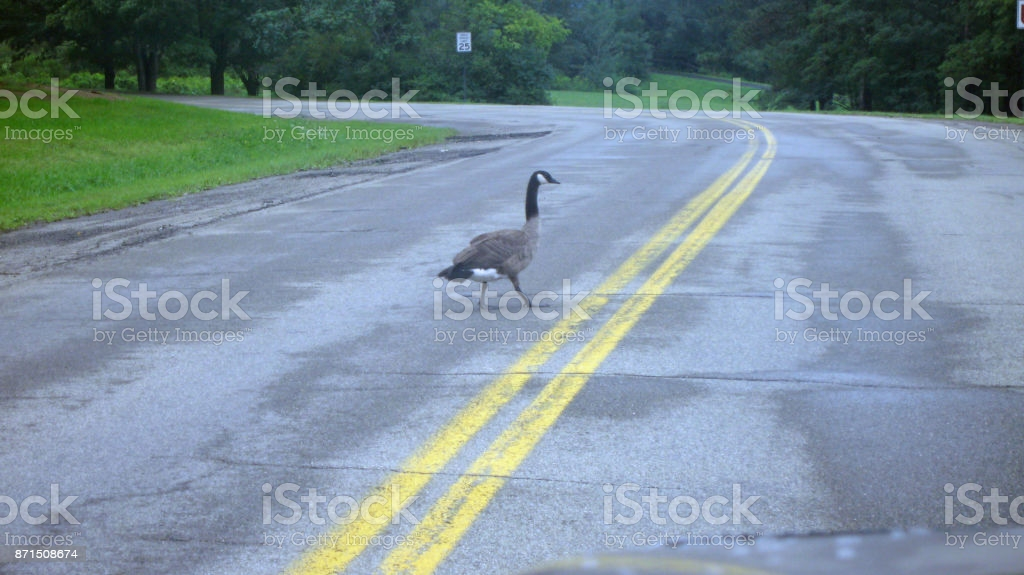goose: (437, 168, 562, 315)
